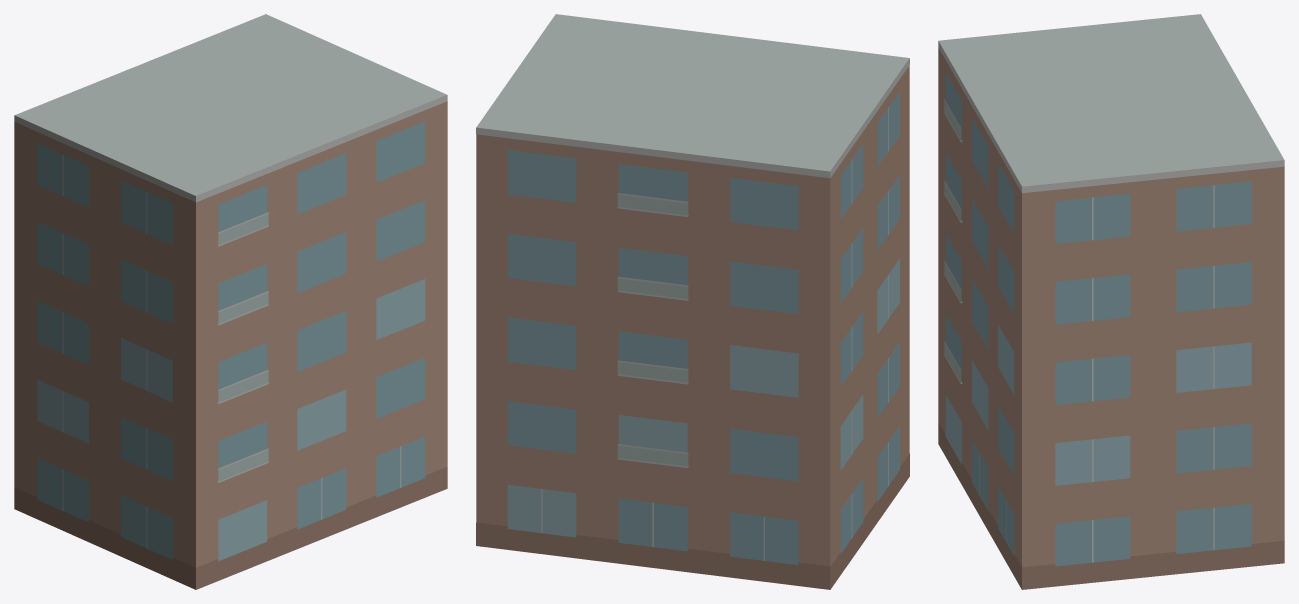
Rendered from survey-upis-32923420.glb.
3 views of the same model, side by side, from view 1: azimuth 30°, elevation 25°; view 2: azimuth 150°, elevation 25°; view 3: azimuth 270°, elevation 25° (orthographic). The views are drawn at different scales.
Visible parts, largest first — view 1: survey-upis-32923420.tmp; view 2: survey-upis-32923420.tmp; view 3: survey-upis-32923420.tmp.
Part boxes in pixels (x1,y1,x2,y2): survey-upis-32923420.tmp: [14, 14, 447, 589]; survey-upis-32923420.tmp: [476, 14, 909, 589]; survey-upis-32923420.tmp: [938, 14, 1284, 589].
Bounding box in the file's own units: 13.89 × 15.1 × 11.76.
